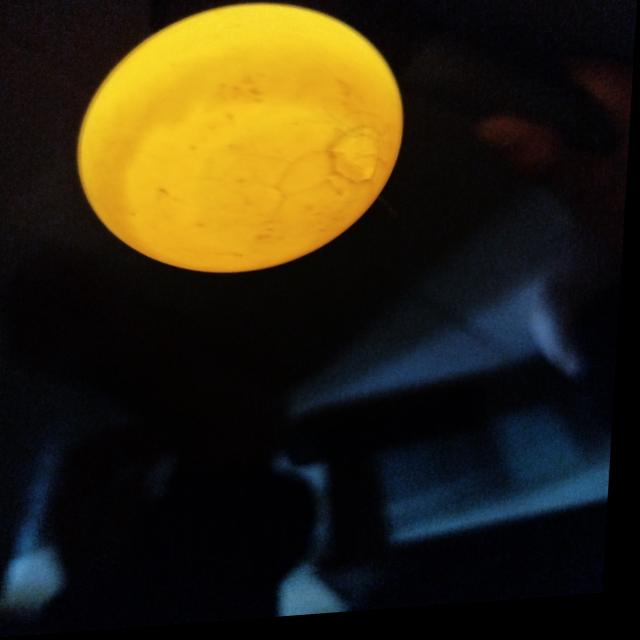Camara de Ar: (128, 112, 374, 275)
Rachadura: (277, 119, 393, 202)
